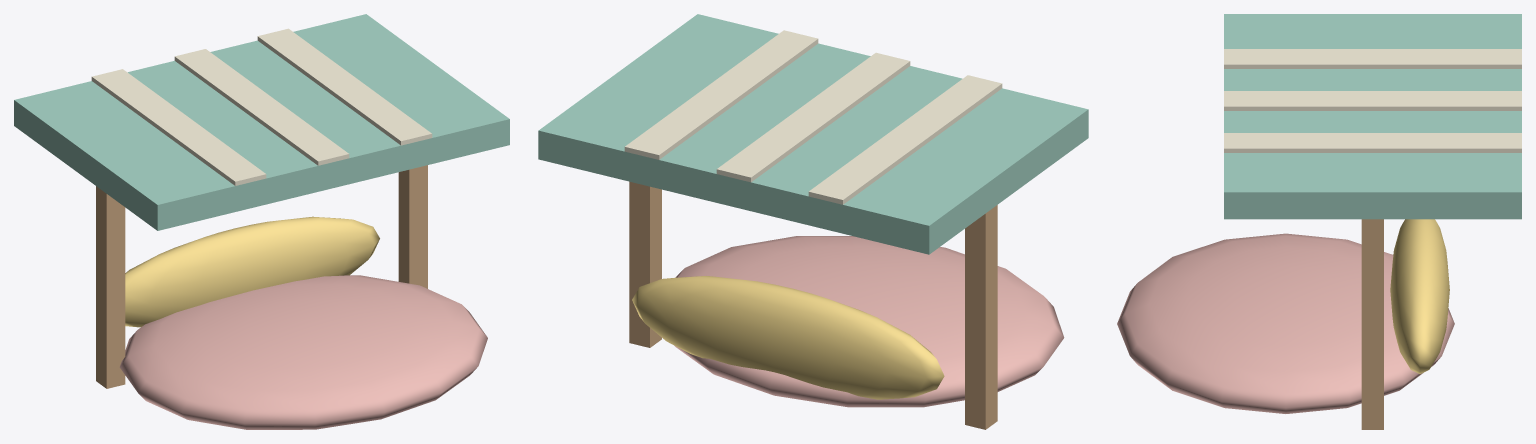
The model's file is cat-nook.glb.
3 renders of one model, left to right at view 1: azimuth 30°, elevation 25°; view 2: azimuth 150°, elevation 25°; view 3: azimuth 270°, elevation 25°, orthographic. The views are drawn at different scales.
Visible parts, largest first — view 1: open hood roof, soft cat bed, canopy stripe.001, back bolster, bed hood post.001; view 2: open hood roof, soft cat bed, back bolster, canopy stripe.001, bed hood post.001; view 3: open hood roof, soft cat bed, canopy stripe.001, back bolster, bed hood post.001.
Boxes of the visible parts, <box> form: open hood roof: <box>14,14,509,230</box>; soft cat bed: <box>119,275,487,429</box>; canopy stripe.001: <box>91,28,432,185</box>; back bolster: <box>125,216,379,327</box>; bed hood post.001: <box>96,165,427,388</box>; open hood roof: <box>538,14,1088,254</box>; soft cat bed: <box>674,236,1064,407</box>; back bolster: <box>632,276,944,399</box>; canopy stripe.001: <box>624,30,1002,204</box>; bed hood post.001: <box>629,181,997,429</box>; open hood roof: <box>1224,14,1521,219</box>; soft cat bed: <box>1117,233,1454,413</box>; canopy stripe.001: <box>1224,49,1521,152</box>; back bolster: <box>1390,219,1449,373</box>; bed hood post.001: <box>1361,219,1383,429</box>.
Size of the model in its own units: 1.7 by 1.15 by 1.63.
